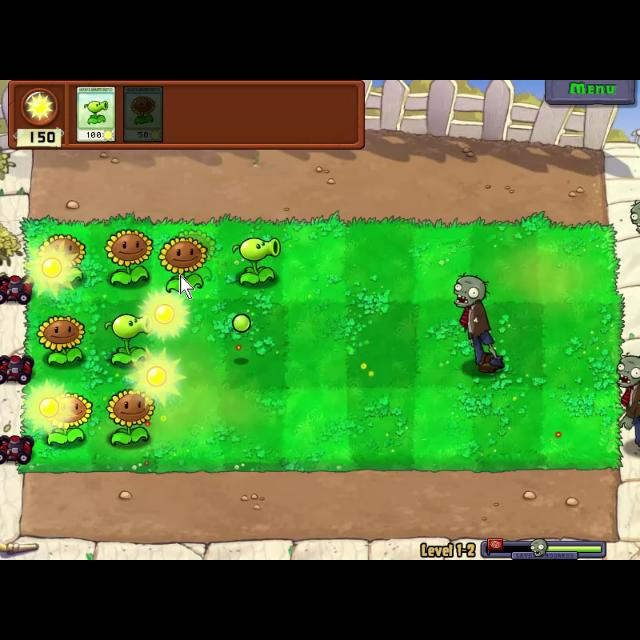Garden: (15, 212, 623, 473)
Menu Button: (543, 80, 637, 106)
Mower: (0, 432, 38, 466), (0, 271, 36, 305), (0, 352, 38, 384)
Peashooter: (74, 86, 118, 144)
Peashooter Seed: (102, 311, 156, 367), (234, 237, 282, 290)
Seed Panel: (7, 80, 367, 152)
Sun: (21, 238, 77, 292), (128, 354, 186, 404), (23, 381, 75, 433), (140, 290, 188, 340)
Sunflower: (121, 82, 165, 146)
Sunflower Seed: (102, 388, 156, 450), (39, 389, 90, 453), (156, 234, 206, 298), (100, 226, 152, 286), (36, 313, 90, 369), (38, 230, 88, 284)
Zombie: (450, 272, 510, 378), (610, 348, 640, 448), (630, 198, 640, 234)
